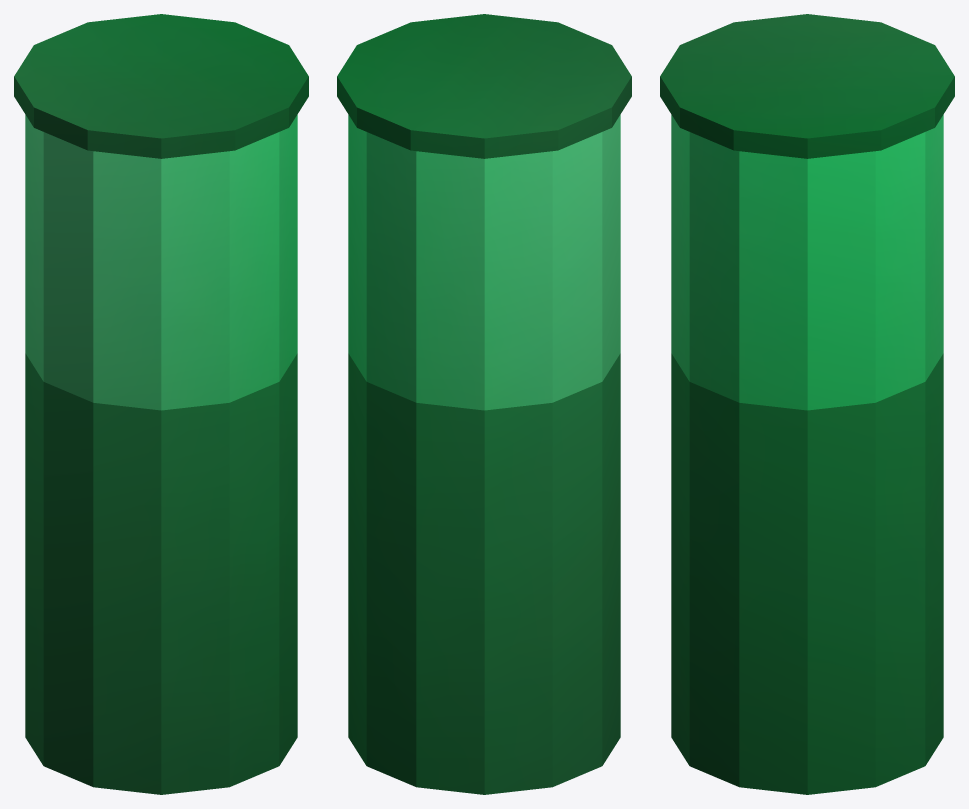
The model's file is Ürün10.fbx.
The picture shows the model from 3 angles, left to right: view 1: azimuth 30°, elevation 25°; view 2: azimuth 150°, elevation 25°; view 3: azimuth 270°, elevation 25°; orthographic projection.
Visible parts, largest first — view 1: pCylinder3; view 2: pCylinder3; view 3: pCylinder3.
Boxes of the visible parts, left/top/right/bottom form: pCylinder3: left=14, top=14, right=308, bottom=794; pCylinder3: left=337, top=14, right=631, bottom=794; pCylinder3: left=660, top=14, right=954, bottom=794.
Size of the model in its own units: 11.6 by 28.73 by 11.6.
